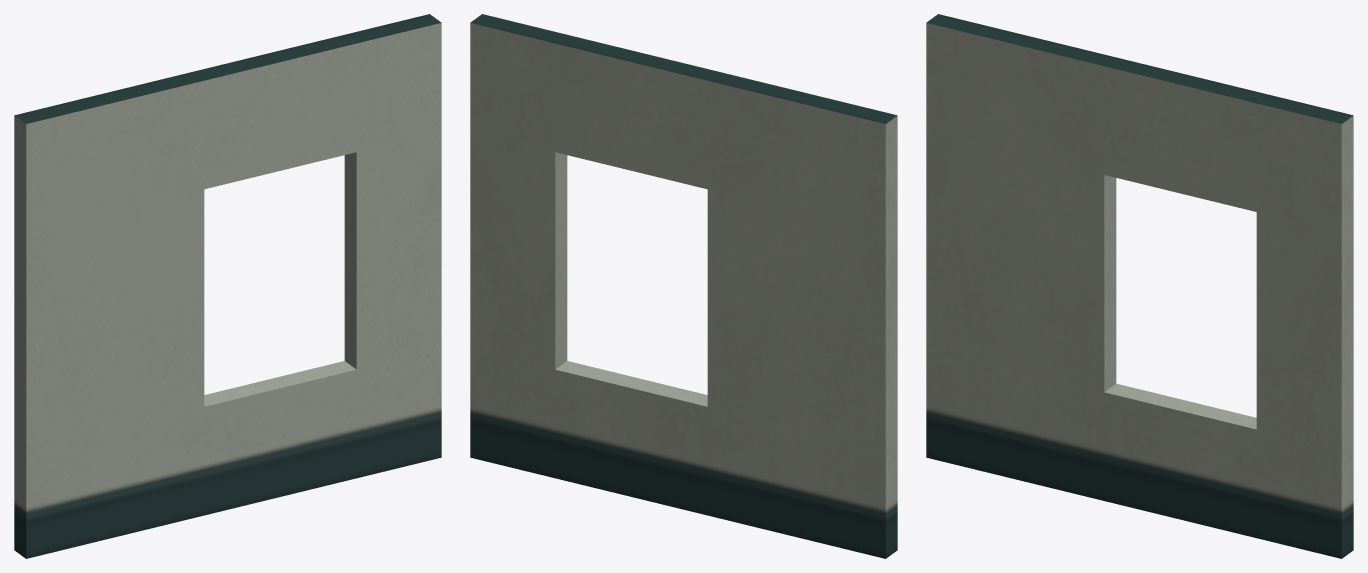
Rendered from Wall_5_D.fbx.
The picture shows the model from 3 angles, left to right: view 1: azimuth 30°, elevation 25°; view 2: azimuth 150°, elevation 25°; view 3: azimuth 330°, elevation 25°; orthographic projection.
Visible parts, largest first — view 1: pCube52; view 2: pCube52; view 3: pCube52.
Part boxes in pixels (x1,y1,x2,y2): pCube52: (14,14,441,558); pCube52: (470,14,897,558); pCube52: (926,14,1353,558).
Bounding box in the file's own units: 4 × 4 × 0.2.
